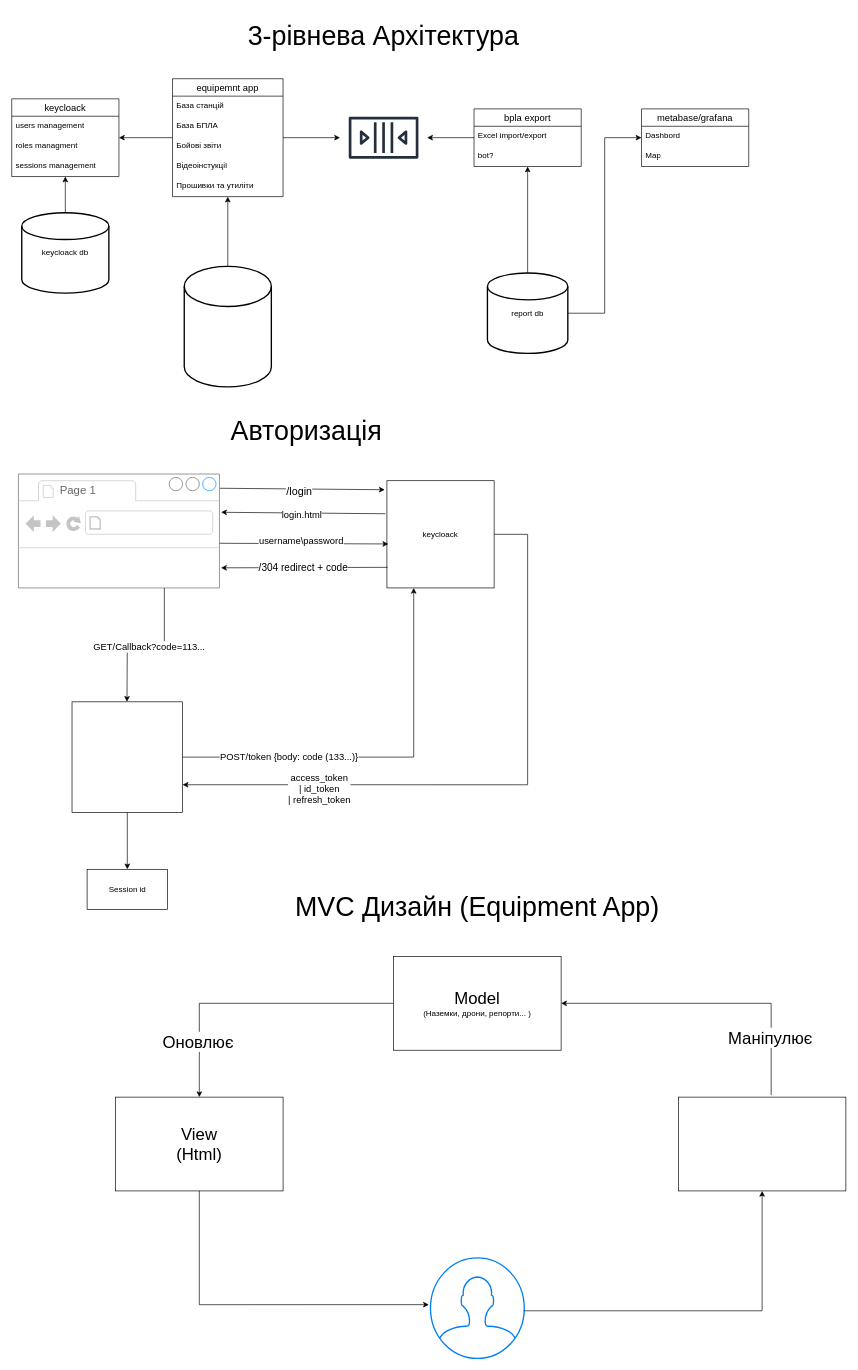
This 858x1370 diagram has some shape labels left out. Here are the shapes that lost their labels. From the top down, the centre of each, then its label:
the point at 383,137: RabbitMQ
the point at 227,326: Equipment db
the point at 189,523: https://kgroup.center
the point at 127,756: equipment app
the point at 762,1143: Controller (Http)
